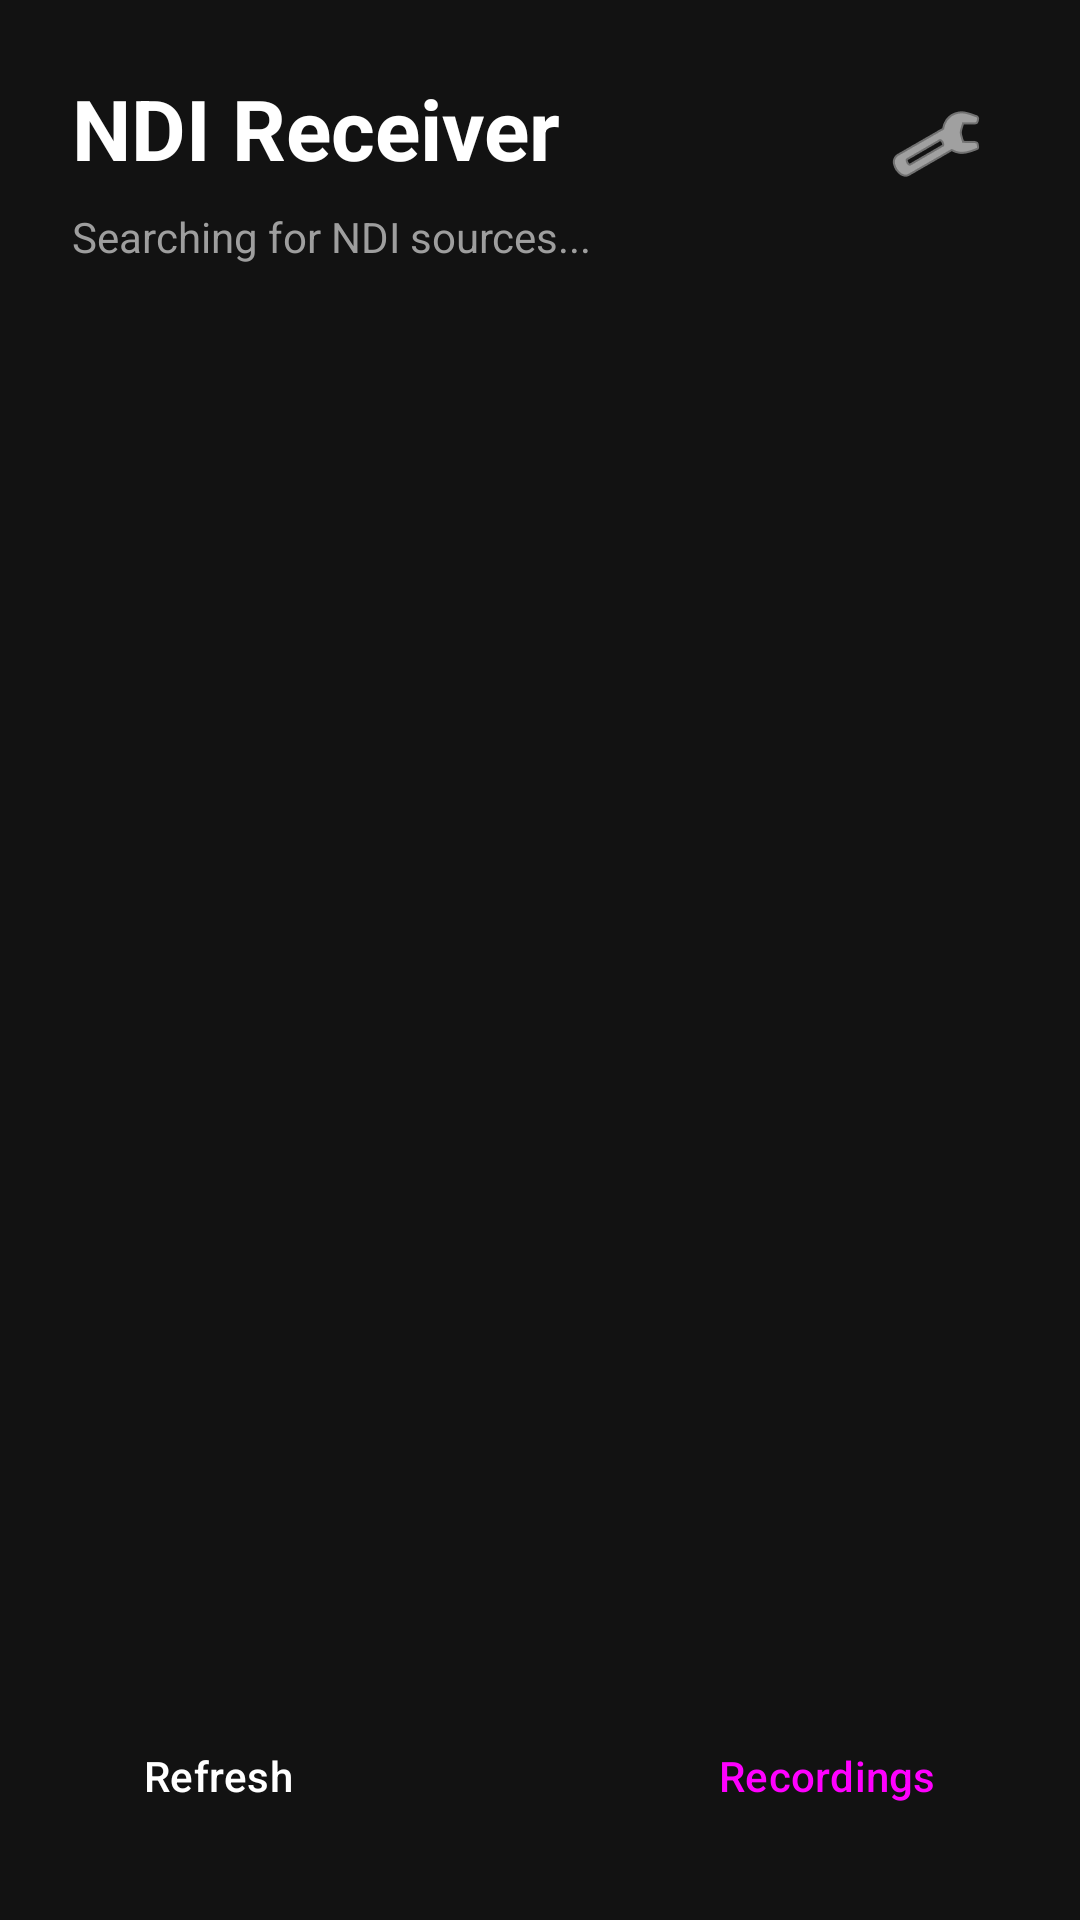

Screen size 1080 x 1920. Icon name, then its center in pixels as (x=x, y=y):
Settings: (x=936, y=144)
